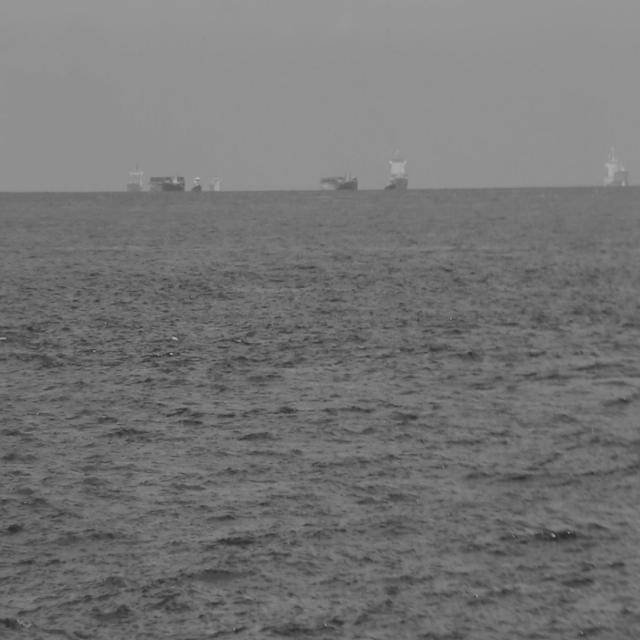ship: (125, 159, 186, 194), (383, 144, 410, 192), (602, 145, 630, 190), (319, 170, 358, 192), (190, 173, 203, 194)
